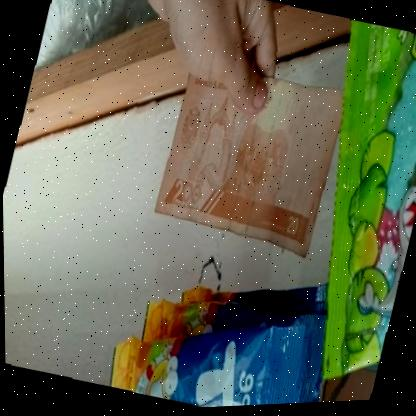twenty-back-vef: (147, 54, 348, 266)
